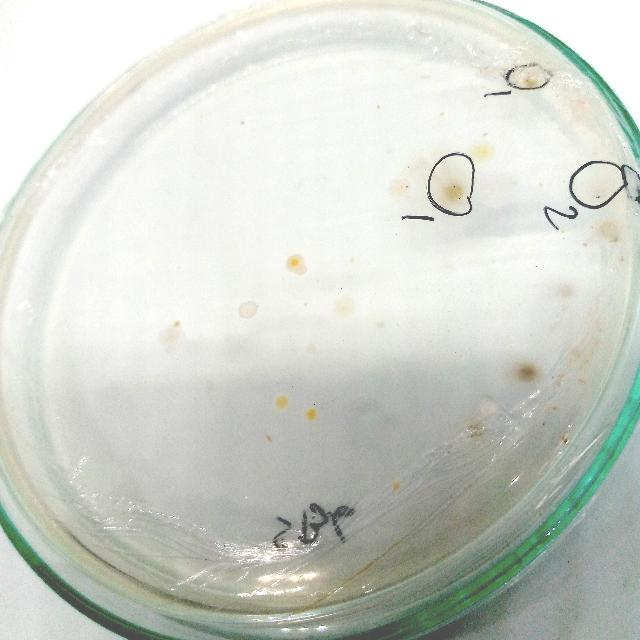colony: (576, 168, 620, 208), (436, 174, 472, 212), (506, 357, 544, 387), (156, 322, 192, 352), (279, 252, 313, 280), (329, 293, 358, 319), (469, 139, 498, 165), (598, 215, 624, 243), (516, 70, 546, 94), (388, 174, 414, 198), (234, 297, 260, 321), (270, 390, 294, 414), (465, 417, 489, 439), (385, 476, 405, 496), (554, 282, 576, 300), (301, 406, 319, 422), (261, 430, 279, 446), (302, 339, 318, 356)
